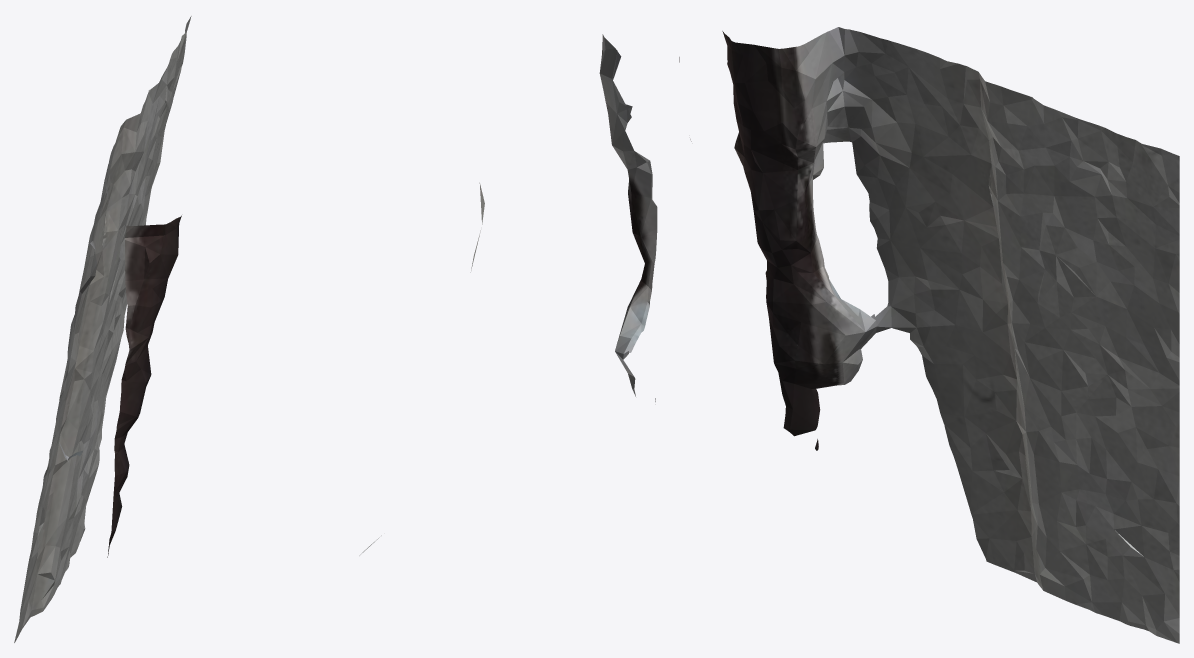
3 views of the same model, side by side, from view 1: azimuth 30°, elevation 25°; view 2: azimuth 150°, elevation 25°; view 3: azimuth 270°, elevation 25° (orthographic). The views are drawn at different scales.
Size of the model in its own units: 0.4657 by 0.8374 by 0.634.
Materials: 2 (2 with a texture image).
